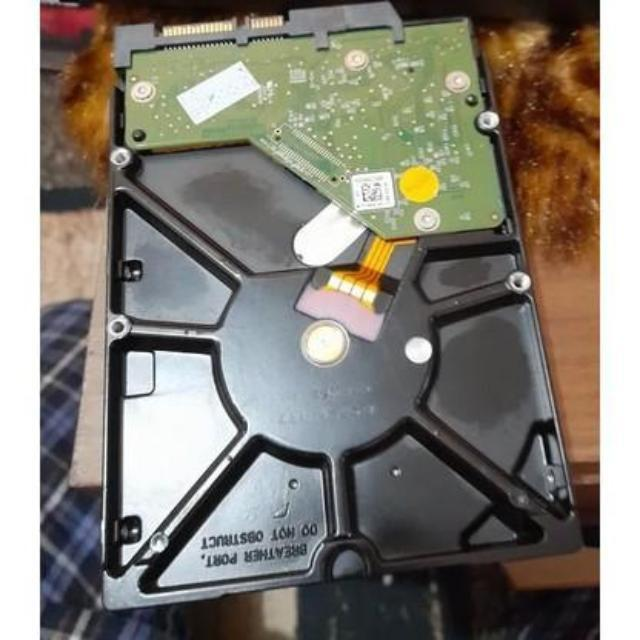DISK: (109, 14, 586, 572)
